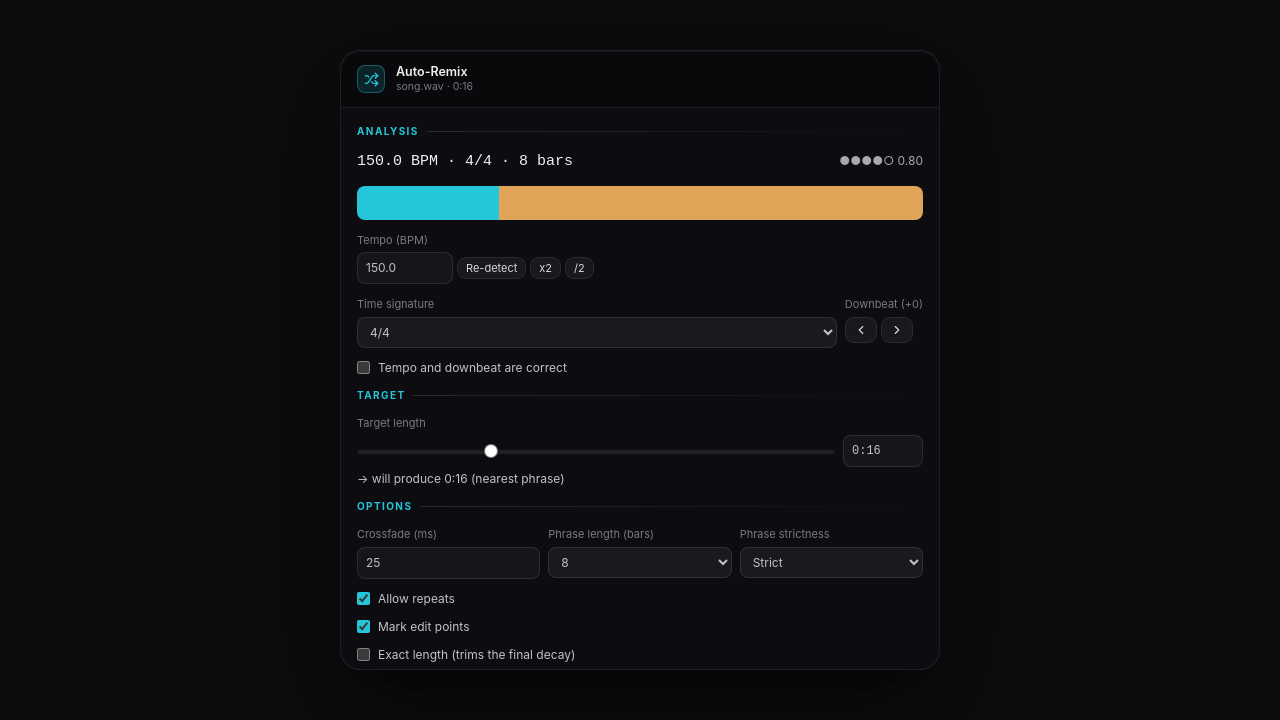
Scenario: RemixDialog › 14b. states the applied crossfade when the quarter-beat cap bites, and stays quiet when it does not
Replace the text in the number field with test id "remix-crossfade" with "120": (449, 563) [357,547,540,579]
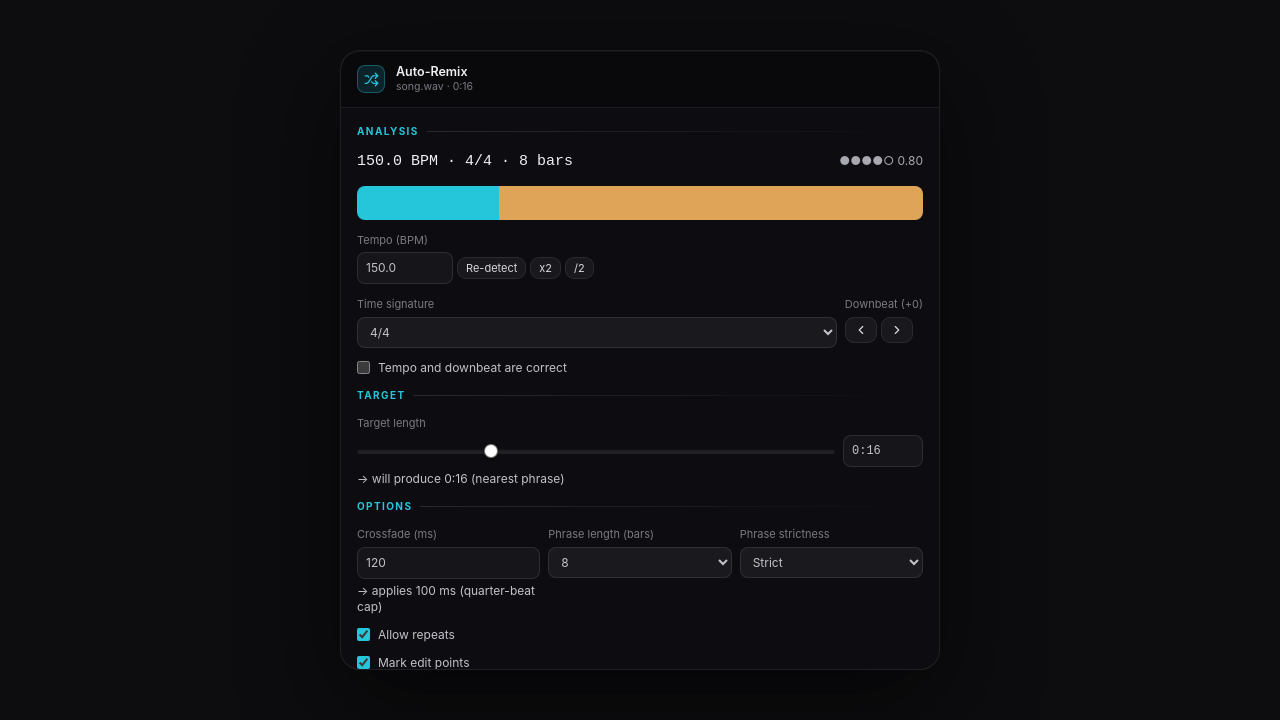
Result: the text with test id "remix-crossfade-capped" shows "100 ms" at [357,583,535,614]
